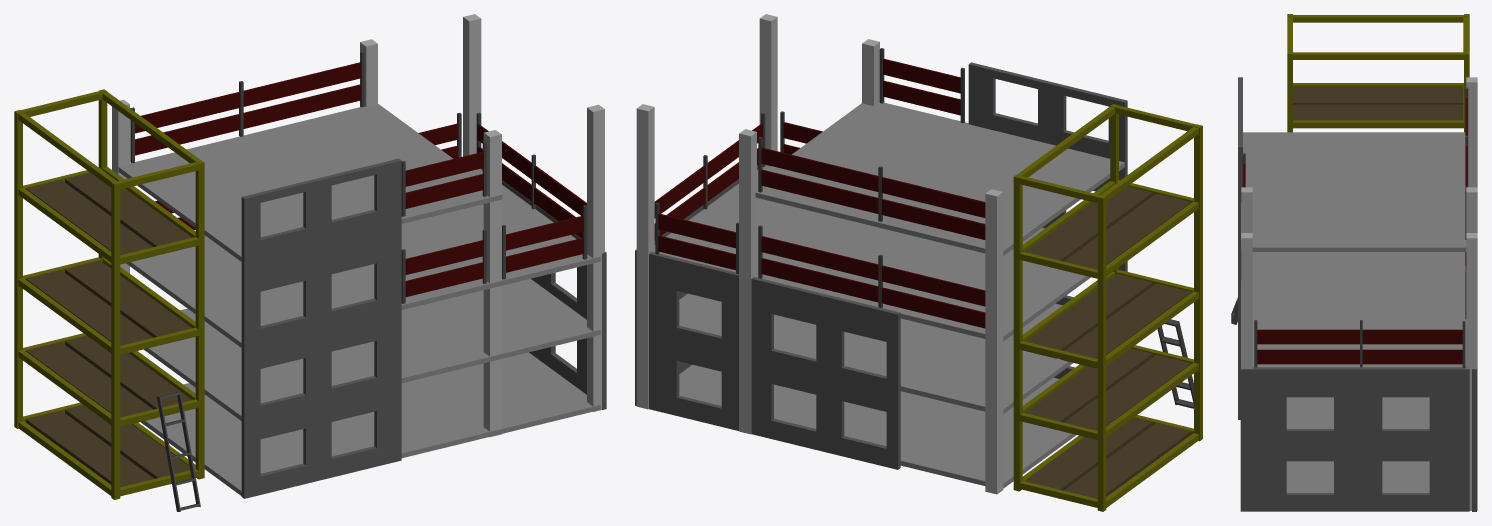
File: MidConstruction.fbx
The picture shows the model from 3 angles, left to right: view 1: azimuth 30°, elevation 25°; view 2: azimuth 150°, elevation 25°; view 3: azimuth 270°, elevation 25°; orthographic projection. The views are drawn at different scales.
Parts seen in each view (by area): view 1: BetaLevelProps3:BetaLevelProps3:polySurface16, BetaLevelProps3:BetaLevelProps3:pCube82, BetaLevelProps3:BetaLevelProps3:pCube79, BetaLevelProps3:BetaLevelProps3:pCube80, BetaLevelProps3:BetaLevelProps3:pCube81, BetaLevelProps3:BetaLevelProps3:pCube86, BetaLevelProps3:BetaLevelProps3:pCube87, BetaLevelProps3:BetaLevelProps3:polySurface14, BetaLevelProps3:BetaLevelProps3:pCube153, BetaLevelProps3:BetaLevelProps3:pCube147, BetaLevelProps3:BetaLevelProps3:pCube156, BetaLevelProps3:BetaLevelProps3:pCube130 (+38 smaller); view 2: BetaLevelProps3:BetaLevelProps3:polySurface15, BetaLevelProps3:BetaLevelProps3:pCube82, BetaLevelProps3:BetaLevelProps3:pCube81, BetaLevelProps3:BetaLevelProps3:pCube79, BetaLevelProps3:BetaLevelProps3:pCube80, BetaLevelProps3:BetaLevelProps3:polySurface16, BetaLevelProps3:BetaLevelProps3:pCube90, BetaLevelProps3:BetaLevelProps3:pCube89, BetaLevelProps3:BetaLevelProps3:pCube88, BetaLevelProps3:BetaLevelProps3:pCube147, BetaLevelProps3:BetaLevelProps3:pCube153, BetaLevelProps3:BetaLevelProps3:pCube129 (+40 smaller); view 3: BetaLevelProps3:BetaLevelProps3:polySurface14, BetaLevelProps3:BetaLevelProps3:pCube82, BetaLevelProps3:BetaLevelProps3:pCube81, BetaLevelProps3:BetaLevelProps3:pCube157, BetaLevelProps3:BetaLevelProps3:pCube80, BetaLevelProps3:BetaLevelProps3:pCube79, BetaLevelProps3:BetaLevelProps3:pCube156, BetaLevelProps3:BetaLevelProps3:pCube89, BetaLevelProps3:BetaLevelProps3:pCube126, BetaLevelProps3:BetaLevelProps3:pCube127, BetaLevelProps3:BetaLevelProps3:pCube87, BetaLevelProps3:BetaLevelProps3:pCube122 (+11 smaller).
Part boxes in pixels (x1,y1,x2,y2): BetaLevelProps3:BetaLevelProps3:polySurface16: [241, 158, 401, 498]; BetaLevelProps3:BetaLevelProps3:pCube82: [118, 104, 502, 261]; BetaLevelProps3:BetaLevelProps3:pCube79: [140, 352, 600, 496]; BetaLevelProps3:BetaLevelProps3:pCube80: [144, 279, 600, 420]; BetaLevelProps3:BetaLevelProps3:pCube81: [126, 168, 600, 347]; BetaLevelProps3:BetaLevelProps3:pCube86: [483, 130, 501, 437]; BetaLevelProps3:BetaLevelProps3:pCube87: [587, 104, 604, 411]; BetaLevelProps3:BetaLevelProps3:polySurface14: [481, 168, 606, 409]; BetaLevelProps3:BetaLevelProps3:pCube153: [26, 410, 154, 487]; BetaLevelProps3:BetaLevelProps3:pCube147: [65, 260, 194, 345]; BetaLevelProps3:BetaLevelProps3:pCube156: [65, 172, 194, 254]; BetaLevelProps3:BetaLevelProps3:pCube130: [111, 181, 120, 499]; BetaLevelProps3:BetaLevelProps3:polySurface15: [635, 249, 900, 469]; BetaLevelProps3:BetaLevelProps3:pCube82: [755, 102, 1124, 255]; BetaLevelProps3:BetaLevelProps3:pCube81: [654, 165, 1090, 341]; BetaLevelProps3:BetaLevelProps3:pCube79: [679, 364, 1076, 488]; BetaLevelProps3:BetaLevelProps3:pCube80: [679, 293, 1073, 413]; BetaLevelProps3:BetaLevelProps3:polySurface16: [968, 62, 1127, 378]; BetaLevelProps3:BetaLevelProps3:pCube90: [985, 189, 1003, 494]; BetaLevelProps3:BetaLevelProps3:pCube89: [636, 104, 654, 409]; BetaLevelProps3:BetaLevelProps3:pCube88: [739, 129, 756, 434]; BetaLevelProps3:BetaLevelProps3:pCube147: [1022, 274, 1152, 358]; BetaLevelProps3:BetaLevelProps3:pCube153: [1064, 422, 1191, 498]; BetaLevelProps3:BetaLevelProps3:pCube129: [1097, 195, 1106, 511]; BetaLevelProps3:BetaLevelProps3:polySurface14: [1240, 367, 1469, 511]; BetaLevelProps3:BetaLevelProps3:pCube82: [1241, 132, 1468, 251]; BetaLevelProps3:BetaLevelProps3:pCube81: [1241, 252, 1466, 367]; BetaLevelProps3:BetaLevelProps3:pCube157: [1293, 87, 1463, 104]; BetaLevelProps3:BetaLevelProps3:pCube80: [1286, 397, 1429, 428]; BetaLevelProps3:BetaLevelProps3:pCube79: [1286, 461, 1429, 492]; BetaLevelProps3:BetaLevelProps3:pCube156: [1293, 104, 1463, 120]; BetaLevelProps3:BetaLevelProps3:pCube89: [1466, 233, 1477, 510]; BetaLevelProps3:BetaLevelProps3:pCube126: [1257, 329, 1359, 344]; BetaLevelProps3:BetaLevelProps3:pCube127: [1257, 349, 1359, 364]; BetaLevelProps3:BetaLevelProps3:pCube87: [1241, 233, 1252, 368]; BetaLevelProps3:BetaLevelProps3:pCube122: [1362, 349, 1462, 364].
Bounding box in the file's own units: 227 × 148 × 114.
